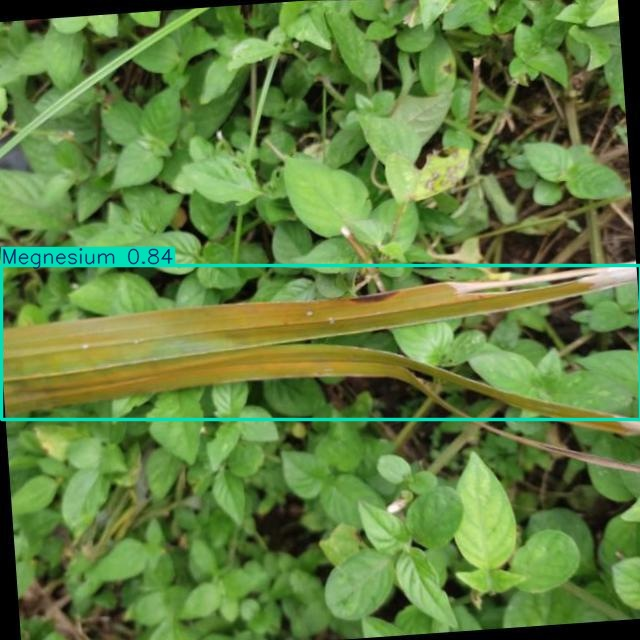Megnesium: (2, 266, 640, 419)
